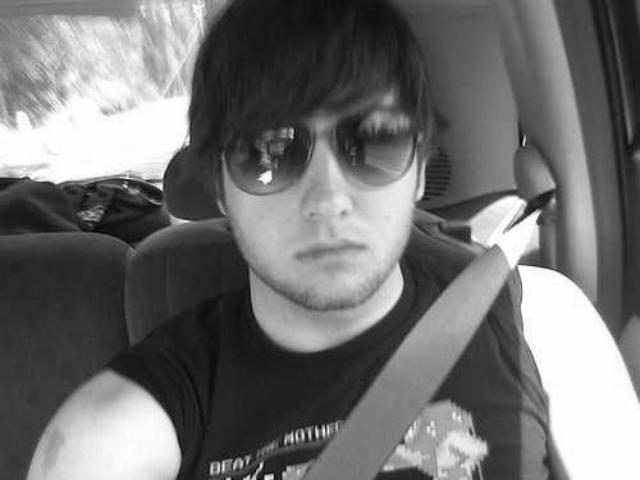SafeDriving: (226, 129, 304, 180), (344, 108, 418, 161)
Seatbelt: (296, 143, 556, 480)
